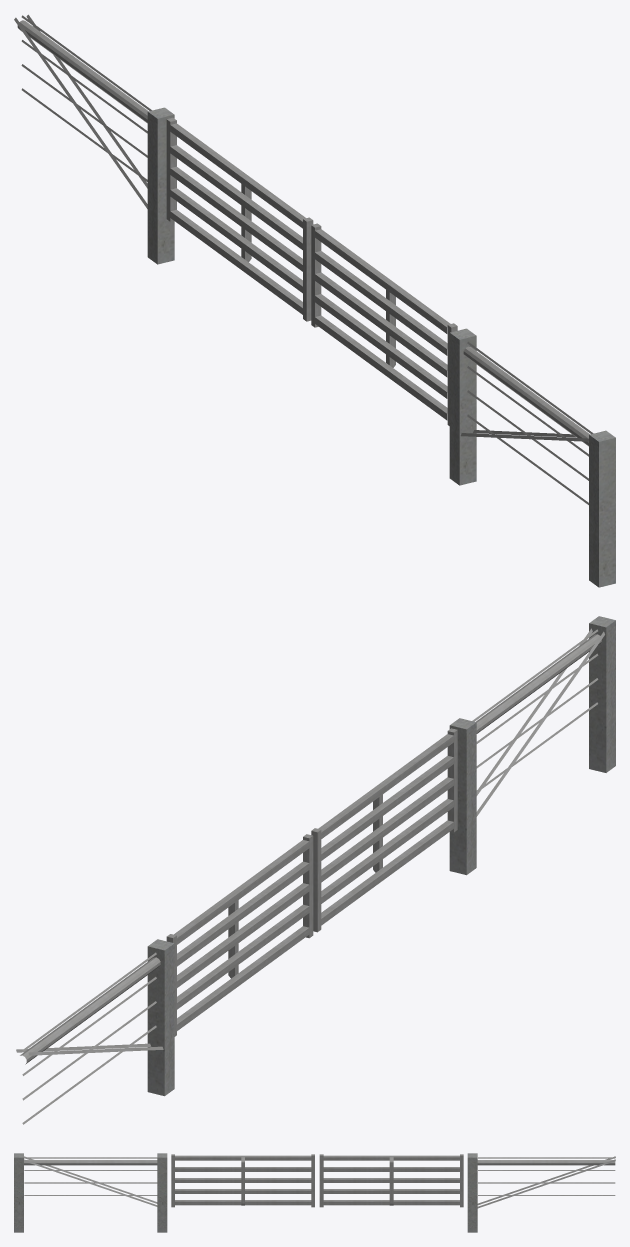
Rendered from farm-fence-gate-cbj_LOD00.gltf.
3 views of the same model, one above another, from view 1: azimuth 30°, elevation 25°; view 2: azimuth 150°, elevation 25°; view 3: azimuth 270°, elevation 25° (orthographic). The views are drawn at different scales.
Visible parts, largest first — view 1: Cube; view 2: Cube; view 3: Cube.
Boxes of the visible parts, x1=… form: Cube: x1=14, y1=14, x2=615, y2=587; Cube: x1=16, y1=616, x2=615, y2=1124; Cube: x1=14, y1=1153, x2=615, y2=1232.
Size of what is drawn, in the model's own units: 0.2354 by 1.81 by 13.11.
